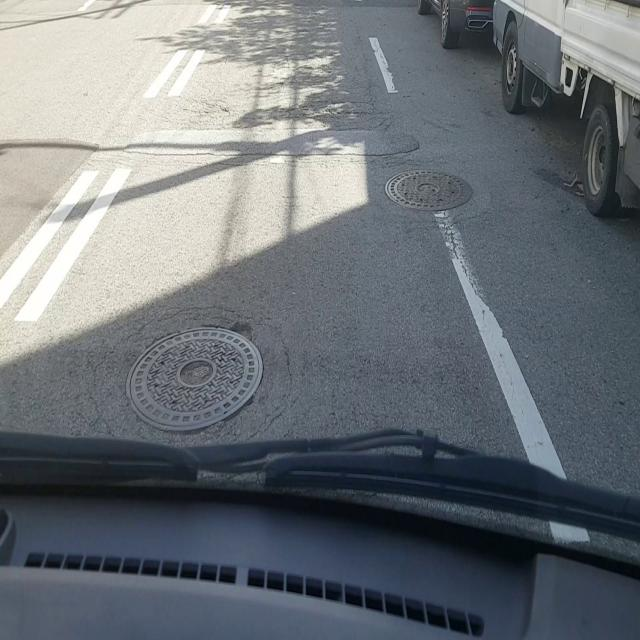Pothole: (122, 317, 267, 439)
